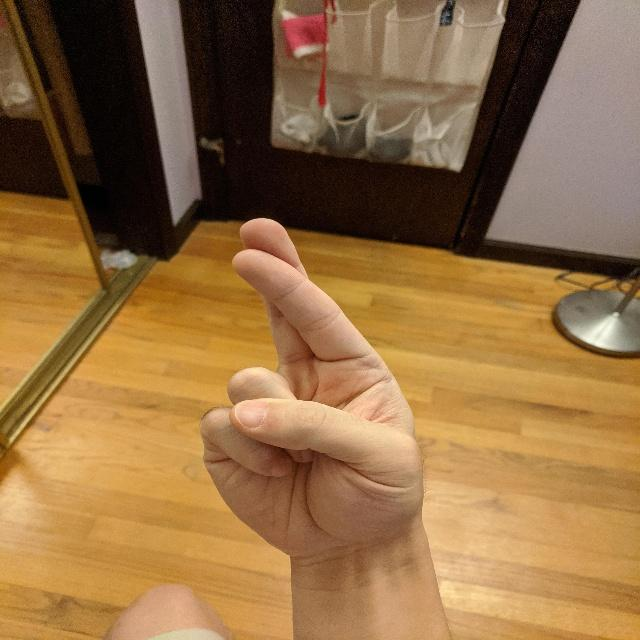R: (194, 213, 439, 561)
